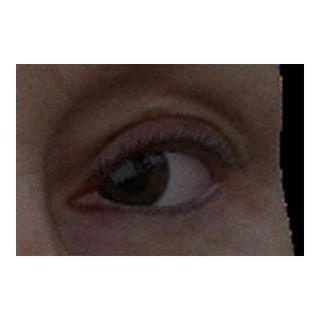pupil: (113, 156, 146, 189)
